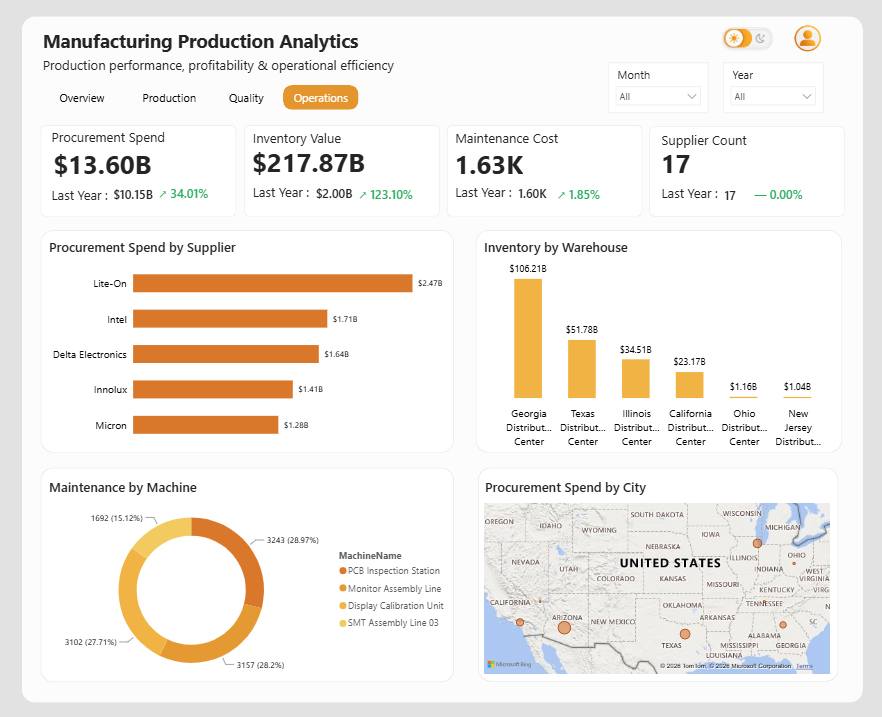

Layout of this report page (visuals, bound fields, positions):
{"tool":"powerbi","page":{"name":"Operations Analysis-Light","canvas":[1280,1050],"ordinal":3},"visuals":[{"type":"shape","box":[0,0,1279.9,1050],"z":0},{"type":"shape","box":[34.1,29.8,1211.8,989],"z":1000},{"type":"textbox","box":[58.8,42.8,499.3,64.2],"z":2000},{"type":"textbox","box":[58.8,82,533.2,48.1],"z":3000},{"type":"cardVisual","fields":{"Data":["4 Operations & Supply Chain Measure.Procurement Spend"]},"box":[49.9,199.1,212.2,85.1],"z":3000,"group":"g4"},{"type":"shape","box":[60.2,187.2,282.1,132.3],"z":4000,"group":"g3"},{"type":"group","id":"g1","title":"Group 11","box":[627.7,187.2,299.4,132],"z":4000},{"type":"cardVisual","fields":{"Data":["4 Operations & Supply Chain Measure.Inventory Value"]},"box":[336.6,197.8,226.5,83.8],"z":4000,"group":"g6"},{"type":"cardVisual","fields":{"Data":["4 Operations & Supply Chain Measure.Maintenance Cost"]},"box":[627.7,202.3,200,79.8],"z":4000,"group":"g7"},{"type":"textbox","box":[950.6,190.8,238.8,41.2],"z":4500,"group":"g9"},{"type":"group","id":"g2","title":"Group 12","box":[925.5,189,294.2,130.2],"z":5000},{"type":"cardVisual","fields":{"Data":["4 Operations & Supply Chain Measure.Supplier Count"]},"box":[925.5,202,184.7,78.7],"z":5000,"group":"g9"},{"type":"textbox","box":[950.6,268.3,123.1,37.5],"z":5500,"group":"g9"},{"type":"shape","box":[410.2,130.2,108.8,35.7],"z":6000},{"type":"cardVisual","fields":{"Data":["4 Operations & Supply Chain Measure.Supplier Count YoY Display"]},"box":[1060,252,140.8,66.1],"z":6000,"group":"g9"},{"type":"cardVisual","fields":{"Data":["4 Operations & Supply Chain Measure.Supplier Count LY"]},"box":[1017.9,253.6,130.6,65.6],"z":6500,"group":"g9"},{"type":"shape","title":"Executive ","box":[62.4,123,115.9,48.1],"z":7000},{"type":"shape","box":[354.6,187.2,281.8,132],"z":7000,"group":"g5"},{"type":"shape","box":[645.3,187.2,281.8,132],"z":7000,"group":"g1"},{"type":"shape","title":"Executive ","box":[181.9,123,130.2,48.1],"z":8000},{"type":"shape","box":[938,189,281.8,130.2],"z":8000,"group":"g2"},{"type":"shape","title":"Executive ","box":[294.2,123,128.4,48.1],"z":9000},{"type":"group","id":"g3","title":"Group 10","box":[49.9,187.2,298,133.7],"z":10000},{"type":"cardVisual","fields":{"Data":["4 Operations & Supply Chain Measure.Procurement Spend LY"]},"box":[136.2,252.3,136,68.7],"z":10000,"group":"g4"},{"type":"cardVisual","fields":{"Data":["2 Production Measures.Production Cost LY"]},"box":[428.2,252.4,143.2,65.7],"z":11000,"group":"g6"},{"type":"cardVisual","fields":{"Data":["4 Operations & Supply Chain Measure.Maintenance Cost LY"]},"box":[718.9,252.4,143.2,65.7],"z":11000,"group":"g7"},{"type":"shape","box":[60.6,338.8,595.6,321],"z":11000},{"type":"group","id":"g4","title":"Group 1","box":[49.9,187.2,298,133.7],"z":12000,"group":"g3"},{"type":"group","id":"g5","title":"Group 11","box":[336.6,187.2,300,132],"z":12000},{"type":"cardVisual","fields":{"Data":["4 Operations & Supply Chain Measure.Procurement Spend YoY Display"]},"box":[202,251,145.9,69.8],"z":13000,"group":"g4"},{"type":"barChart","fields":{"Category":["Dim_Supplier.SupplierName"],"Y":["4 Operations & Supply Chain Measure.Procurement Spend"]},"box":[64.2,369.1,581.4,290.7],"z":13000},{"type":"group","id":"g6","title":"Group 3","box":[336.6,189,300,130.2],"z":14000,"group":"g5"},{"type":"group","id":"g7","title":"Group 3","box":[627.7,189,294.5,129.7],"z":14000,"group":"g1"},{"type":"cardVisual","fields":{"Data":["4 Operations & Supply Chain Measure.Maintenance Cost YoY Display"]},"box":[775,251.9,147.3,66.8],"z":14000,"group":"g7"},{"type":"cardVisual","fields":{"Data":["4 Operations & Supply Chain Measure.Inventory Value YoY Display"]},"box":[489.3,252.4,147.3,66.8],"z":14000,"group":"g6"},{"type":"shape","box":[688.4,338.8,528.1,321],"z":14000},{"type":"clusteredColumnChart","fields":{"Category":["Dim_Warehouse.WarehouseName"],"Y":["4 Operations & Supply Chain Measure.Inventory Value"]},"box":[688.4,369.1,522.5,290.7],"z":15000},{"type":"shape","box":[60.6,681.2,595.6,309.4],"z":16000,"group":"g8"},{"type":"shape","box":[691.7,681.2,519.2,308.5],"z":16000},{"type":"donutChart","fields":{"Category":["Dim_Machine.MachineName"],"Y":["CountNonNull(Fact_Maintenance.MaintenanceType)"]},"box":[60.6,711.3,595.6,292.7],"z":17000,"group":"g8"},{"type":"map","fields":{"Category":["Dim_Plant.City"],"Size":["4 Operations & Supply Chain Measure.Procurement Spend"]},"box":[695.5,727,509,256],"z":17000},{"type":"textbox","box":[71.9,187.2,228.3,43.5],"z":18000,"group":"g4"},{"type":"textbox","box":[68.8,346,308.6,45.1],"z":18000},{"type":"textbox","box":[695.5,346,349.5,44.6],"z":19000},{"type":"textbox","box":[72,269.2,117.7,39.6],"z":20000,"group":"g4"},{"type":"textbox","box":[691.7,691.2,317.2,41.7],"z":20000},{"type":"group","id":"g8","title":"Group 5","box":[60.6,681.2,595.6,322.8],"z":21000},{"type":"slicer","fields":{"Values":["Dim_Date.Year"]},"box":[1045,98.1,144.4,73.1],"z":22000},{"type":"textbox","box":[68.2,691.2,359.3,41.8],"z":22000,"group":"g8"},{"type":"slicer","fields":{"Values":["Dim_Date.MonthShort"]},"box":[879.2,98.1,144.4,73.1],"z":23000},{"type":"shape","title":"Executive ","box":[410.2,123,108.8,48.1],"z":24000},{"type":"image","box":[990,18,178,90],"z":25000},{"type":"image","box":[1100,20,133,86],"z":26000},{"type":"actionButton","box":[1079,41,41,39.2],"z":27000},{"type":"textbox","box":[362.6,189,236.5,41.7],"z":27000,"group":"g6"},{"type":"textbox","box":[653.3,189,236.5,41.7],"z":27000,"group":"g7"},{"type":"group","id":"g9","title":"Group 2","box":[925.5,190.8,275.3,128.4],"z":27500,"group":"g2"},{"type":"textbox","box":[361.9,267.3,122,37.9],"z":28000,"group":"g6"},{"type":"textbox","box":[652.6,267.3,122,37.9],"z":28000,"group":"g7"}]}

Visuals, with their boxes in screenshot pixels (x1, y1, x2, y2), scaled from the page's 1280x1050 canvas onto the 882x717 screenshot:
shape: box(0, 0, 881, 716)
shape: box(23, 20, 859, 696)
textbox: box(41, 29, 385, 73)
textbox: box(41, 56, 408, 89)
cardVisual - 4 Operations & Supply Chain Measure.Procurement Spend: box(34, 136, 181, 194)
shape: box(41, 128, 236, 218)
"Group 11" group: box(433, 128, 639, 218)
cardVisual - 4 Operations & Supply Chain Measure.Inventory Value: box(232, 135, 388, 192)
cardVisual - 4 Operations & Supply Chain Measure.Maintenance Cost: box(433, 138, 570, 193)
textbox: box(655, 130, 820, 158)
"Group 12" group: box(638, 129, 840, 218)
cardVisual - 4 Operations & Supply Chain Measure.Supplier Count: box(638, 138, 765, 192)
textbox: box(655, 183, 740, 209)
shape: box(283, 89, 358, 113)
cardVisual - 4 Operations & Supply Chain Measure.Supplier Count YoY Display: box(730, 172, 827, 217)
cardVisual - 4 Operations & Supply Chain Measure.Supplier Count LY: box(701, 173, 791, 218)
"Executive " shape: box(43, 84, 123, 117)
shape: box(244, 128, 439, 218)
shape: box(445, 128, 639, 218)
"Executive " shape: box(125, 84, 215, 117)
shape: box(646, 129, 841, 218)
"Executive " shape: box(203, 84, 291, 117)
"Group 10" group: box(34, 128, 240, 219)
cardVisual - 4 Operations & Supply Chain Measure.Procurement Spend LY: box(94, 172, 188, 219)
cardVisual - 2 Production Measures.Production Cost LY: box(295, 172, 394, 217)
cardVisual - 4 Operations & Supply Chain Measure.Maintenance Cost LY: box(495, 172, 594, 217)
shape: box(42, 231, 452, 451)
"Group 1" group: box(34, 128, 240, 219)
"Group 11" group: box(232, 128, 439, 218)
cardVisual - 4 Operations & Supply Chain Measure.Procurement Spend YoY Display: box(139, 171, 240, 219)
barChart - Dim_Supplier.SupplierName x 4 Operations & Supply Chain Measure.Procurement Spend: box(44, 252, 445, 451)
"Group 3" group: box(232, 129, 439, 218)
"Group 3" group: box(433, 129, 635, 218)
cardVisual - 4 Operations & Supply Chain Measure.Maintenance Cost YoY Display: box(534, 172, 636, 218)
cardVisual - 4 Operations & Supply Chain Measure.Inventory Value YoY Display: box(337, 172, 439, 218)
shape: box(474, 231, 838, 451)
clusteredColumnChart - Dim_Warehouse.WarehouseName x 4 Operations & Supply Chain Measure.Inventory Value: box(474, 252, 834, 451)
shape: box(42, 465, 452, 676)
shape: box(477, 465, 834, 676)
donutChart - Dim_Machine.MachineName x CountNonNull(Fact_Maintenance.MaintenanceType): box(42, 486, 452, 686)
map - Dim_Plant.City x 4 Operations & Supply Chain Measure.Procurement Spend: box(479, 496, 830, 671)
textbox: box(50, 128, 207, 158)
textbox: box(47, 236, 260, 267)
textbox: box(479, 236, 720, 267)
textbox: box(50, 184, 131, 211)
textbox: box(477, 472, 695, 500)
"Group 5" group: box(42, 465, 452, 686)
slicer - Dim_Date.Year: box(720, 67, 820, 117)
textbox: box(47, 472, 295, 501)
slicer - Dim_Date.MonthShort: box(606, 67, 705, 117)
"Executive " shape: box(283, 84, 358, 117)
image: box(682, 12, 805, 74)
image: box(758, 14, 850, 72)
actionButton: box(743, 28, 772, 55)
textbox: box(250, 129, 413, 158)
textbox: box(450, 129, 613, 158)
"Group 2" group: box(638, 130, 827, 218)
textbox: box(249, 183, 333, 208)
textbox: box(450, 183, 534, 208)
